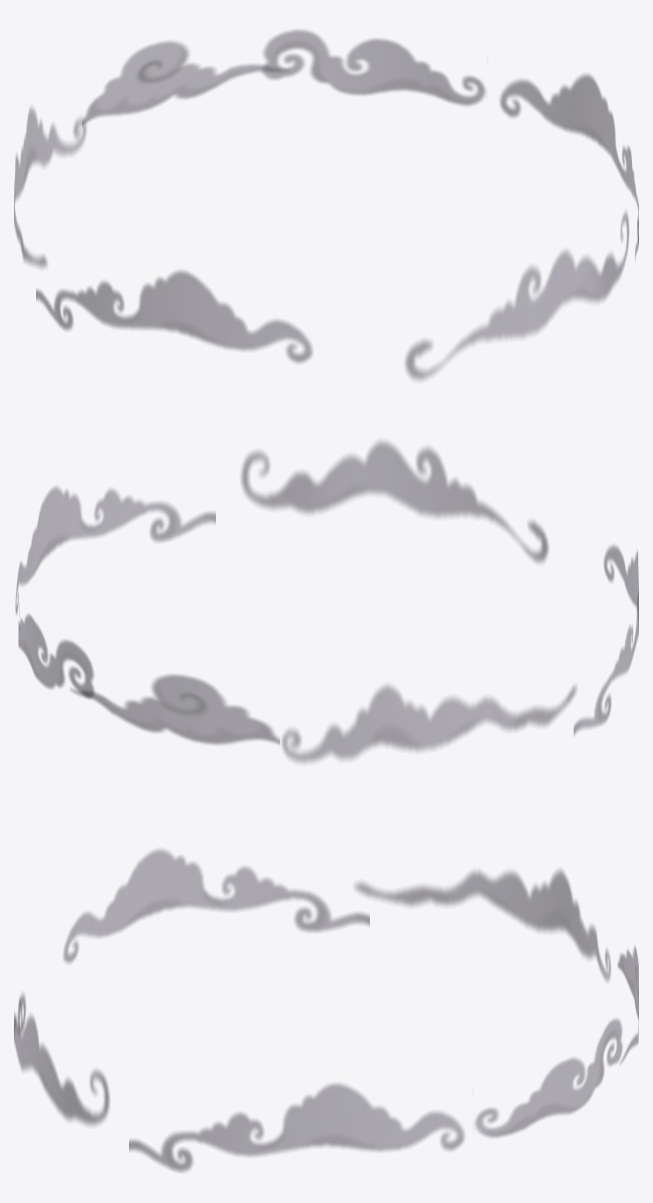
File: Clouds04.glb
3 renders of one model, top to bottom at view 1: azimuth 30°, elevation 25°; view 2: azimuth 150°, elevation 25°; view 3: azimuth 270°, elevation 25°, orthographic.
Visible parts, largest first — view 1: Clouds04; view 2: Clouds04; view 3: Clouds04.
Boxes of the visible parts, bbox=[...] form: Clouds04: bbox=[14, 29, 638, 380]; Clouds04: bbox=[15, 441, 638, 762]; Clouds04: bbox=[14, 849, 638, 1172].
Size of the model in its own units: 114 by 25.94 by 114.
Materials: 1 (1 with a texture image).
